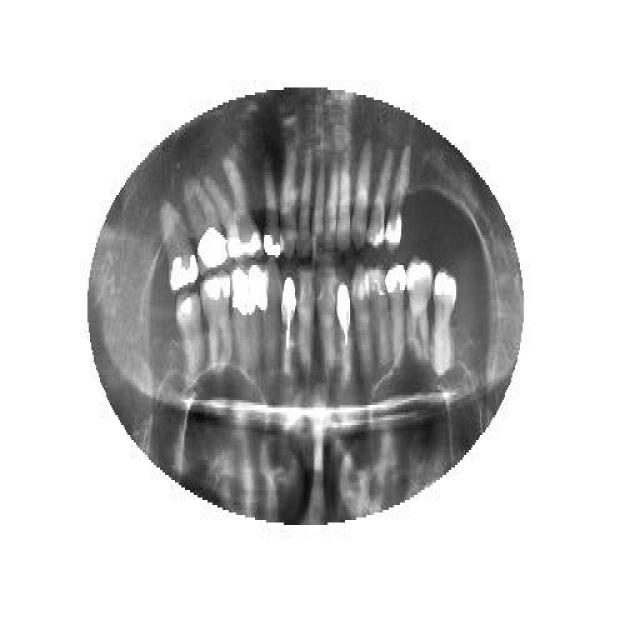Fillings: (209, 155, 261, 260), (184, 180, 228, 272), (160, 200, 198, 290), (202, 275, 232, 377), (430, 273, 458, 375), (385, 135, 409, 250), (176, 285, 204, 380), (385, 265, 409, 367), (408, 262, 432, 360), (230, 263, 252, 365), (262, 155, 282, 260), (250, 265, 269, 367)
Implant: (279, 265, 296, 375), (337, 272, 352, 372)
